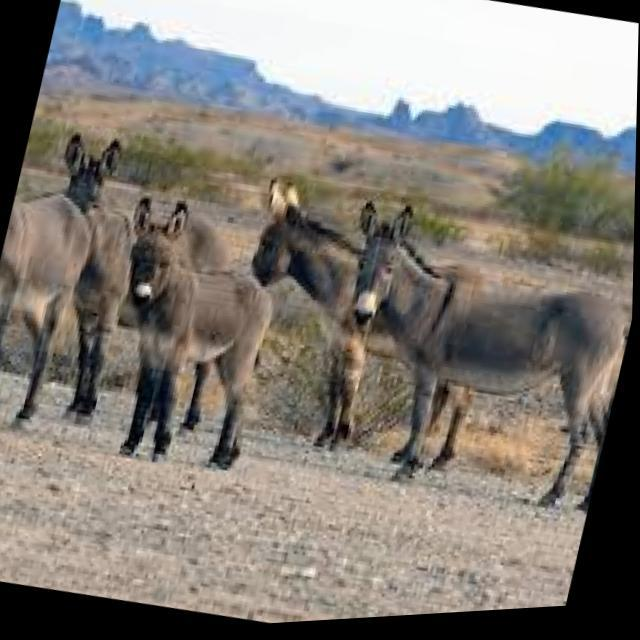Donkey: (0, 94, 638, 560), (299, 188, 636, 534), (208, 168, 412, 466), (80, 205, 294, 485), (0, 171, 112, 441)
